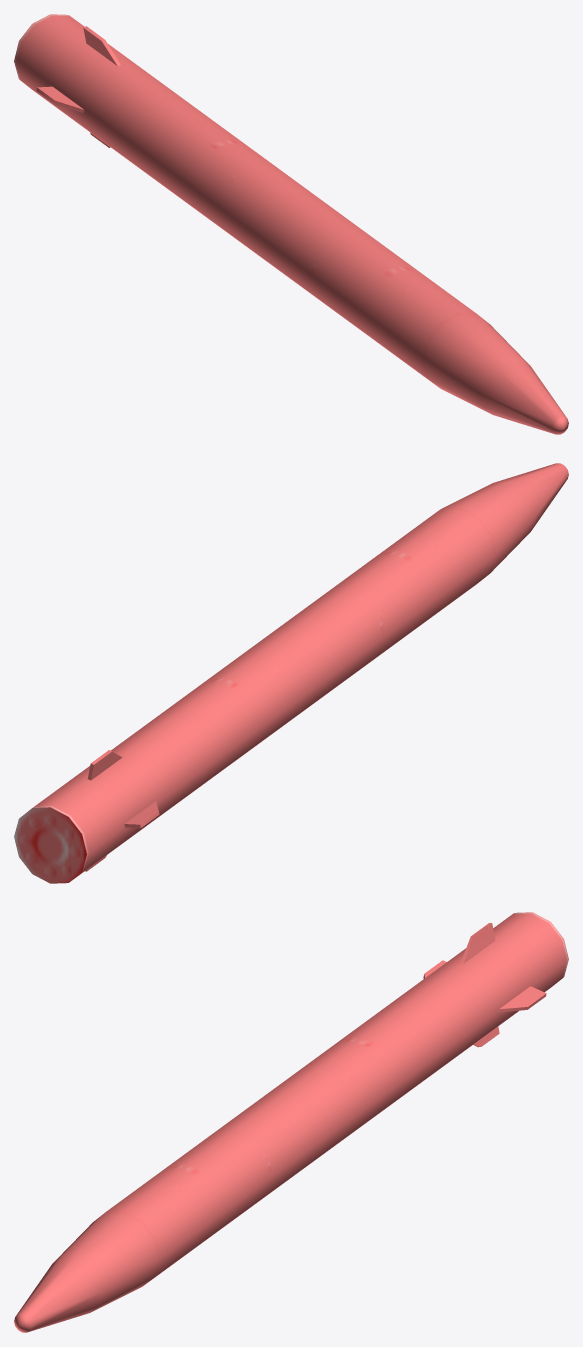
Rendered from rocket_mlrs.fbx.
3 views of the same model, one above another, from view 1: azimuth 30°, elevation 25°; view 2: azimuth 150°, elevation 25°; view 3: azimuth 330°, elevation 25° (orthographic).
Parts seen in each view (by area): view 1: rocket_mlrs; view 2: rocket_mlrs; view 3: rocket_mlrs.
Part boxes in pixels (box(x1,y1,x2,y2)): rocket_mlrs: box(14, 14, 568, 434); rocket_mlrs: box(14, 463, 568, 883); rocket_mlrs: box(14, 912, 568, 1332).
Size of the model in its own units: 0.4431 by 0.4431 by 3.77.
